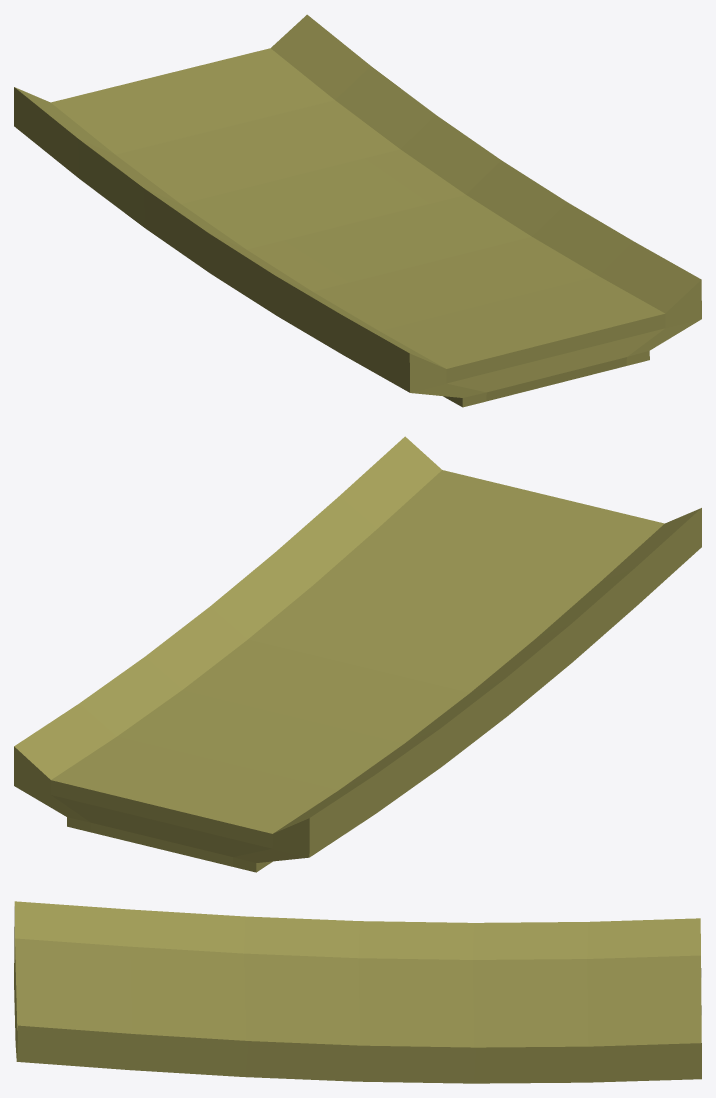
File: ConnectorBent.fbx
3 renders of one model, top to bottom at view 1: azimuth 30°, elevation 25°; view 2: azimuth 150°, elevation 25°; view 3: azimuth 270°, elevation 25°, orthographic. The views are drawn at different scales.
Parts seen in each view (by area): view 1: Cube.003; view 2: Cube.003; view 3: Cube.003.
Part boxes in pixels (bbox=[...]): Cube.003: bbox=[14, 14, 701, 407]; Cube.003: bbox=[14, 436, 701, 872]; Cube.003: bbox=[14, 901, 701, 1083].
Bounding box in the file's own units: 464 × 1067 × 140.
